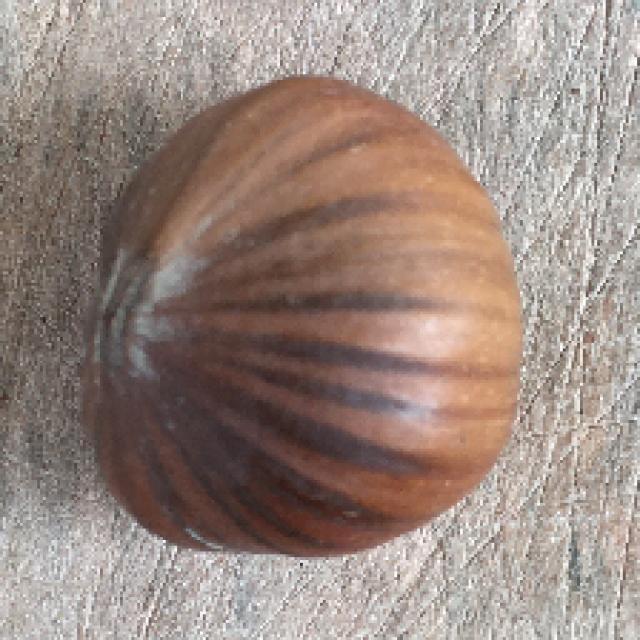damagedHazelnut: (77, 65, 530, 562)
